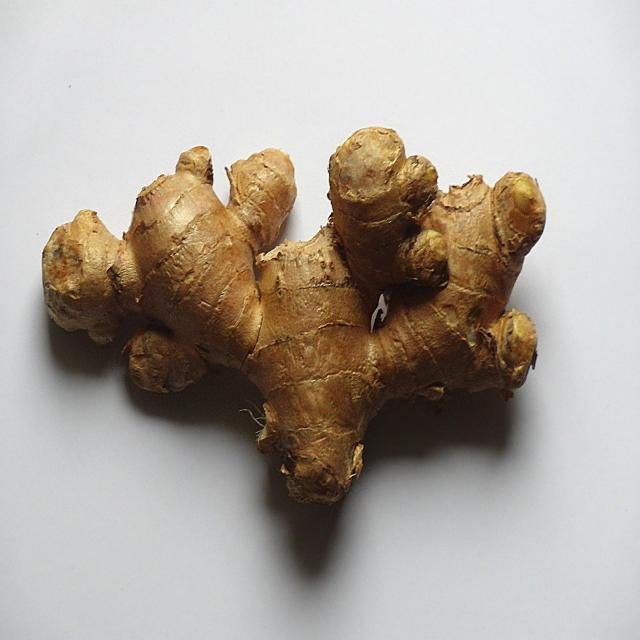ginger-root: (35, 95, 564, 540)
